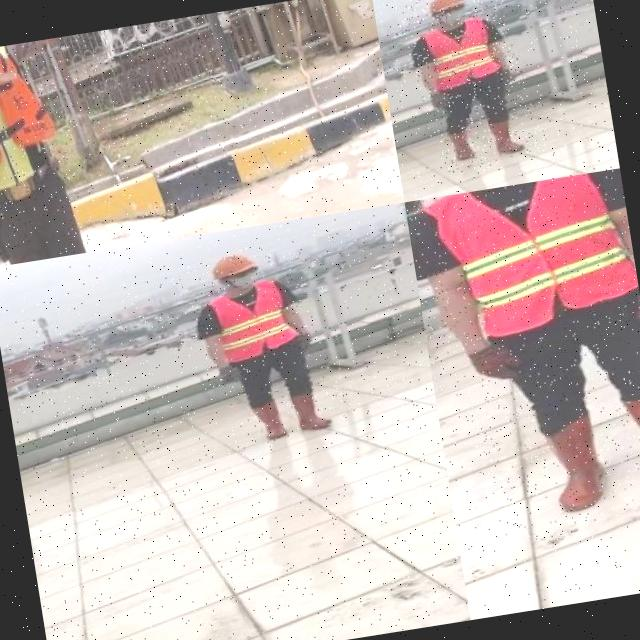boots: (533, 412, 622, 518), (284, 384, 336, 437), (617, 381, 640, 486), (485, 111, 531, 160), (246, 397, 288, 446), (442, 124, 481, 165)
helmet: (204, 246, 260, 283), (420, 0, 469, 17)
vest: (428, 168, 640, 350), (0, 39, 71, 199), (204, 274, 304, 368), (420, 12, 505, 94)
